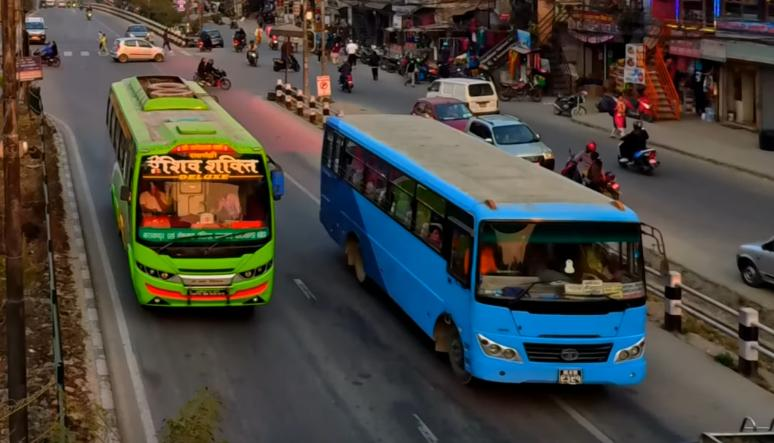bus: (317, 100, 673, 407), (100, 69, 285, 328)
